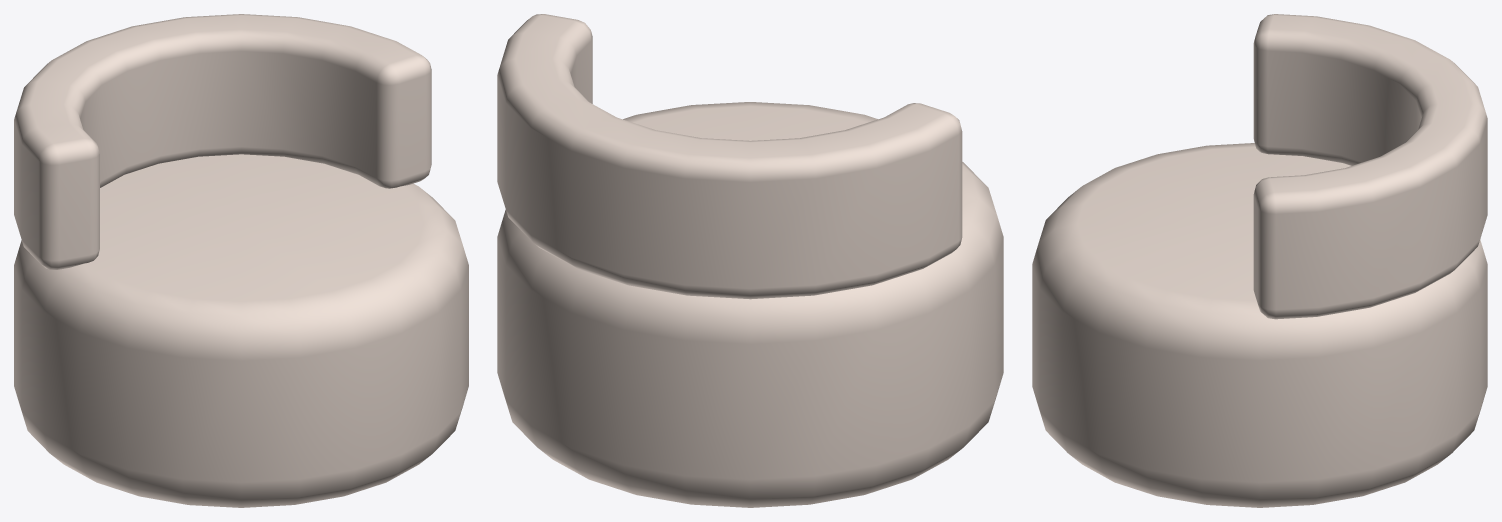
The model's file is Armchair_1.glb.
3 renders of one model, left to right at view 1: azimuth 30°, elevation 25°; view 2: azimuth 150°, elevation 25°; view 3: azimuth 270°, elevation 25°, orthographic. The views are drawn at different scales.
Visible parts, largest first — view 1: Armchair_1; view 2: Armchair_1; view 3: Armchair_1.
Part boxes in pixels (x1,y1,x2,y2): Armchair_1: (14, 14, 468, 507); Armchair_1: (497, 14, 1003, 507); Armchair_1: (1032, 14, 1487, 507).
Size of the model in its own units: 1.31 by 1.02 by 1.31.
Materials: 1 (1 with a texture image).
